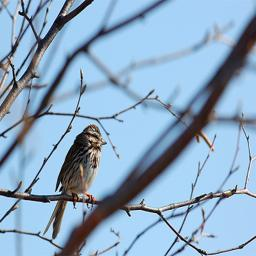Sparrow: (41, 122, 107, 241)
